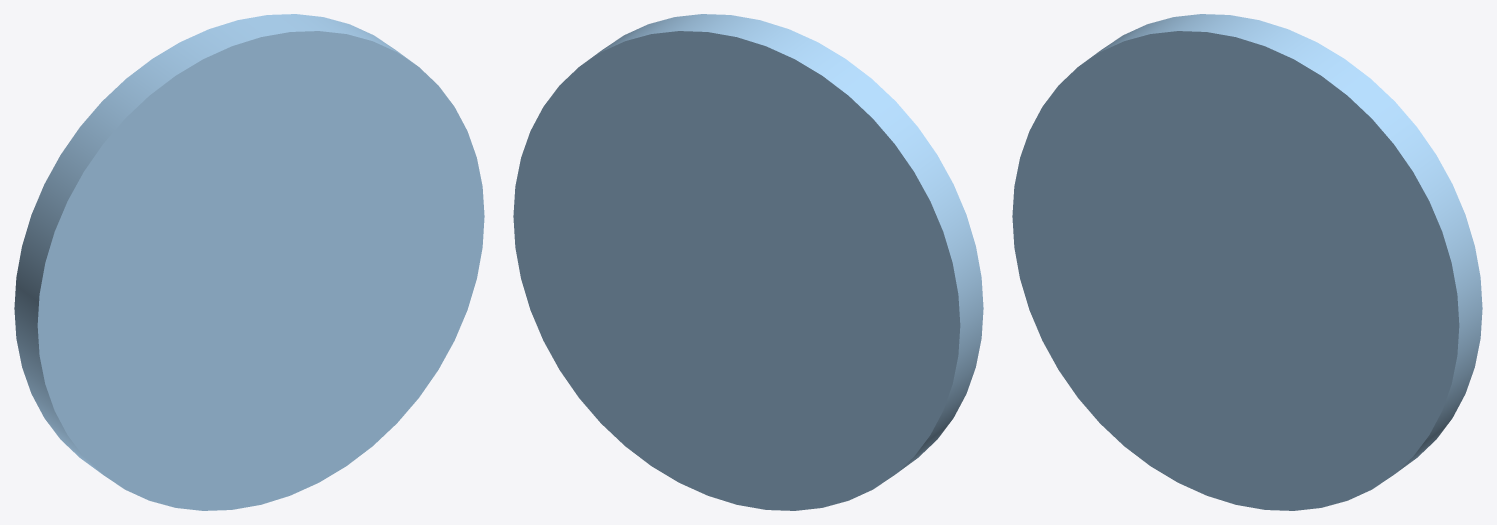
File: badge_forky.glb
The picture shows the model from 3 angles, left to right: view 1: azimuth 30°, elevation 25°; view 2: azimuth 150°, elevation 25°; view 3: azimuth 330°, elevation 25°; orthographic projection.
Visible parts, largest first — view 1: badge; view 2: badge; view 3: badge.
Part boxes in pixels (x1,y1,x2,y2): badge: (14,14,484,510); badge: (513,14,983,510); badge: (1012,14,1482,510).
Bounding box in the file's own units: 2 × 2 × 0.18.
